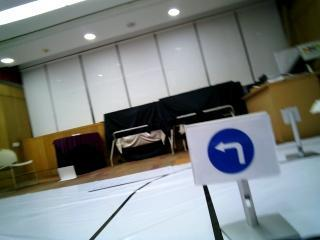left: (194, 126, 280, 173)
